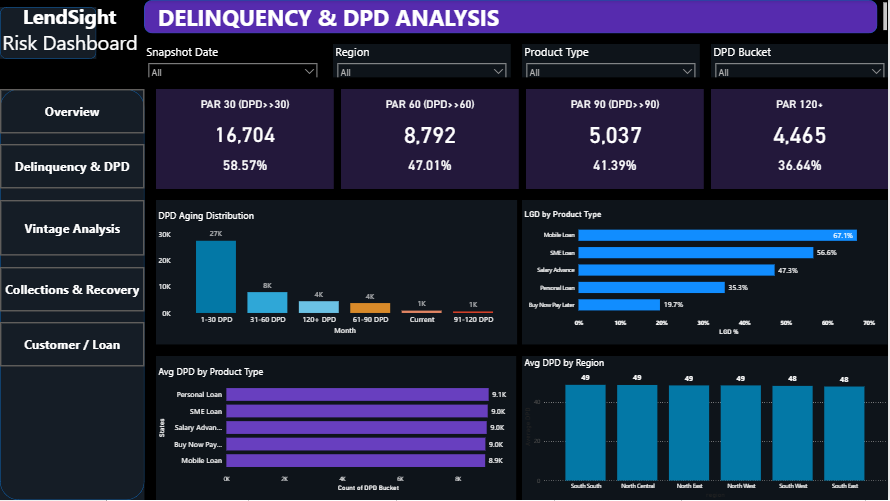

The dashboard page shown, as its layout file describes it:
{"tool":"powerbi","page":{"name":"Delinquency & DPD","canvas":[1920,1080],"ordinal":1},"visuals":[{"type":"pageNavigator","box":[0,192,208,64],"z":0},{"type":"columnChart","title":"DPD Aging Distribution","fields":{"Category":["credit_risk.DPD Bucket"],"Y":["cr_measures.Total Loan"]},"box":[336,432,780,312],"z":1000},{"type":"barChart","title":"Avg DPD by Product Type","fields":{"Category":["credit_risk.product_type"],"Y":["CountNonNull(credit_risk.DPD Bucket)"]},"box":[336,768,778,312],"z":2000},{"type":"columnChart","title":"Avg DPD by Region","fields":{"Category":["credit_risk.region"],"Y":["cr_measures.Average DPD"]},"box":[1128,768,792,312],"z":3000},{"type":"barChart","title":"LGD by Product Type","fields":{"Category":["credit_risk.product_type"],"Y":["cr_measures.LGD"]},"box":[1128,432,790,312],"z":4000},{"type":"shape","box":[0,16,208,112],"z":5000},{"type":"shape","box":[0,192,312,888],"z":6000},{"type":"textbox","box":[0,0,312,168],"z":7000},{"type":"actionButton","box":[0,312,312,96],"z":8000},{"type":"actionButton","box":[0,432,312,120],"z":9000},{"type":"actionButton","box":[0,576,312,96],"z":10000},{"type":"actionButton","box":[0,696,312,96],"z":11000},{"type":"actionButton","box":[0,192,312,96],"z":12000},{"type":"shape","box":[312,0,1584,72],"z":14000},{"type":"slicer","title":"Snapshot Date","fields":{"Values":["Calender.Year"]},"box":[312,96,384,72],"z":15000},{"type":"cardVisual","title":"PAR 30 (DPD>>30)","fields":{"Data":["cr_measures.PAR 30 Loans","cr_measures.PAR 30"]},"box":[336,192,384,216],"z":16000},{"type":"slicer","title":"Product Type","fields":{"Values":["credit_risk.product_type"]},"box":[1128,96,384,72],"z":17000},{"type":"slicer","title":"DPD Bucket","fields":{"Values":["credit_risk.DPD Bucket"]},"box":[1536,96,384,72],"z":18000},{"type":"slicer","title":"Region","fields":{"Values":["credit_risk.region"]},"box":[720,96,384,72],"z":19000},{"type":"cardVisual","title":"PAR 120+","fields":{"Data":["cr_measures.PAR 120 Loans","cr_measures.PAR 120+"]},"box":[1536,192,384,216],"z":20000},{"type":"cardVisual","title":"PAR 90 (DPD>>90)","fields":{"Data":["cr_measures.PAR 90 Loans","cr_measures.PAR 90"]},"box":[1136,192,384,216],"z":21000},{"type":"cardVisual","title":"PAR 60 (DPD>>60)","fields":{"Data":["cr_measures.PAR 60 Loans","cr_measures.PAR 60"]},"box":[736,192,384,216],"z":22000},{"type":"textbox","box":[336,0,1584,72],"z":23000}]}

Visuals, with their boxes in screenshot pixels (x1, y1, x2, y2), scaled from the page's 1920x1080 canvas onto the 890x501 screenshot:
pageNavigator: x1=0 y1=89 x2=96 y2=119
"DPD Aging Distribution" columnChart: x1=156 y1=200 x2=517 y2=345
"Avg DPD by Product Type" barChart: x1=156 y1=356 x2=516 y2=500
"Avg DPD by Region" columnChart: x1=523 y1=356 x2=889 y2=500
"LGD by Product Type" barChart: x1=523 y1=200 x2=889 y2=345
shape: x1=0 y1=7 x2=96 y2=59
shape: x1=0 y1=89 x2=145 y2=500
textbox: x1=0 y1=0 x2=145 y2=78
actionButton: x1=0 y1=145 x2=145 y2=189
actionButton: x1=0 y1=200 x2=145 y2=256
actionButton: x1=0 y1=267 x2=145 y2=312
actionButton: x1=0 y1=323 x2=145 y2=367
actionButton: x1=0 y1=89 x2=145 y2=134
shape: x1=145 y1=0 x2=879 y2=33
"Snapshot Date" slicer: x1=145 y1=45 x2=323 y2=78
"PAR 30 (DPD>>30)" cardVisual: x1=156 y1=89 x2=334 y2=189
"Product Type" slicer: x1=523 y1=45 x2=701 y2=78
"DPD Bucket" slicer: x1=712 y1=45 x2=889 y2=78
"Region" slicer: x1=334 y1=45 x2=512 y2=78
"PAR 120+" cardVisual: x1=712 y1=89 x2=889 y2=189
"PAR 90 (DPD>>90)" cardVisual: x1=527 y1=89 x2=705 y2=189
"PAR 60 (DPD>>60)" cardVisual: x1=341 y1=89 x2=519 y2=189
textbox: x1=156 y1=0 x2=889 y2=33
